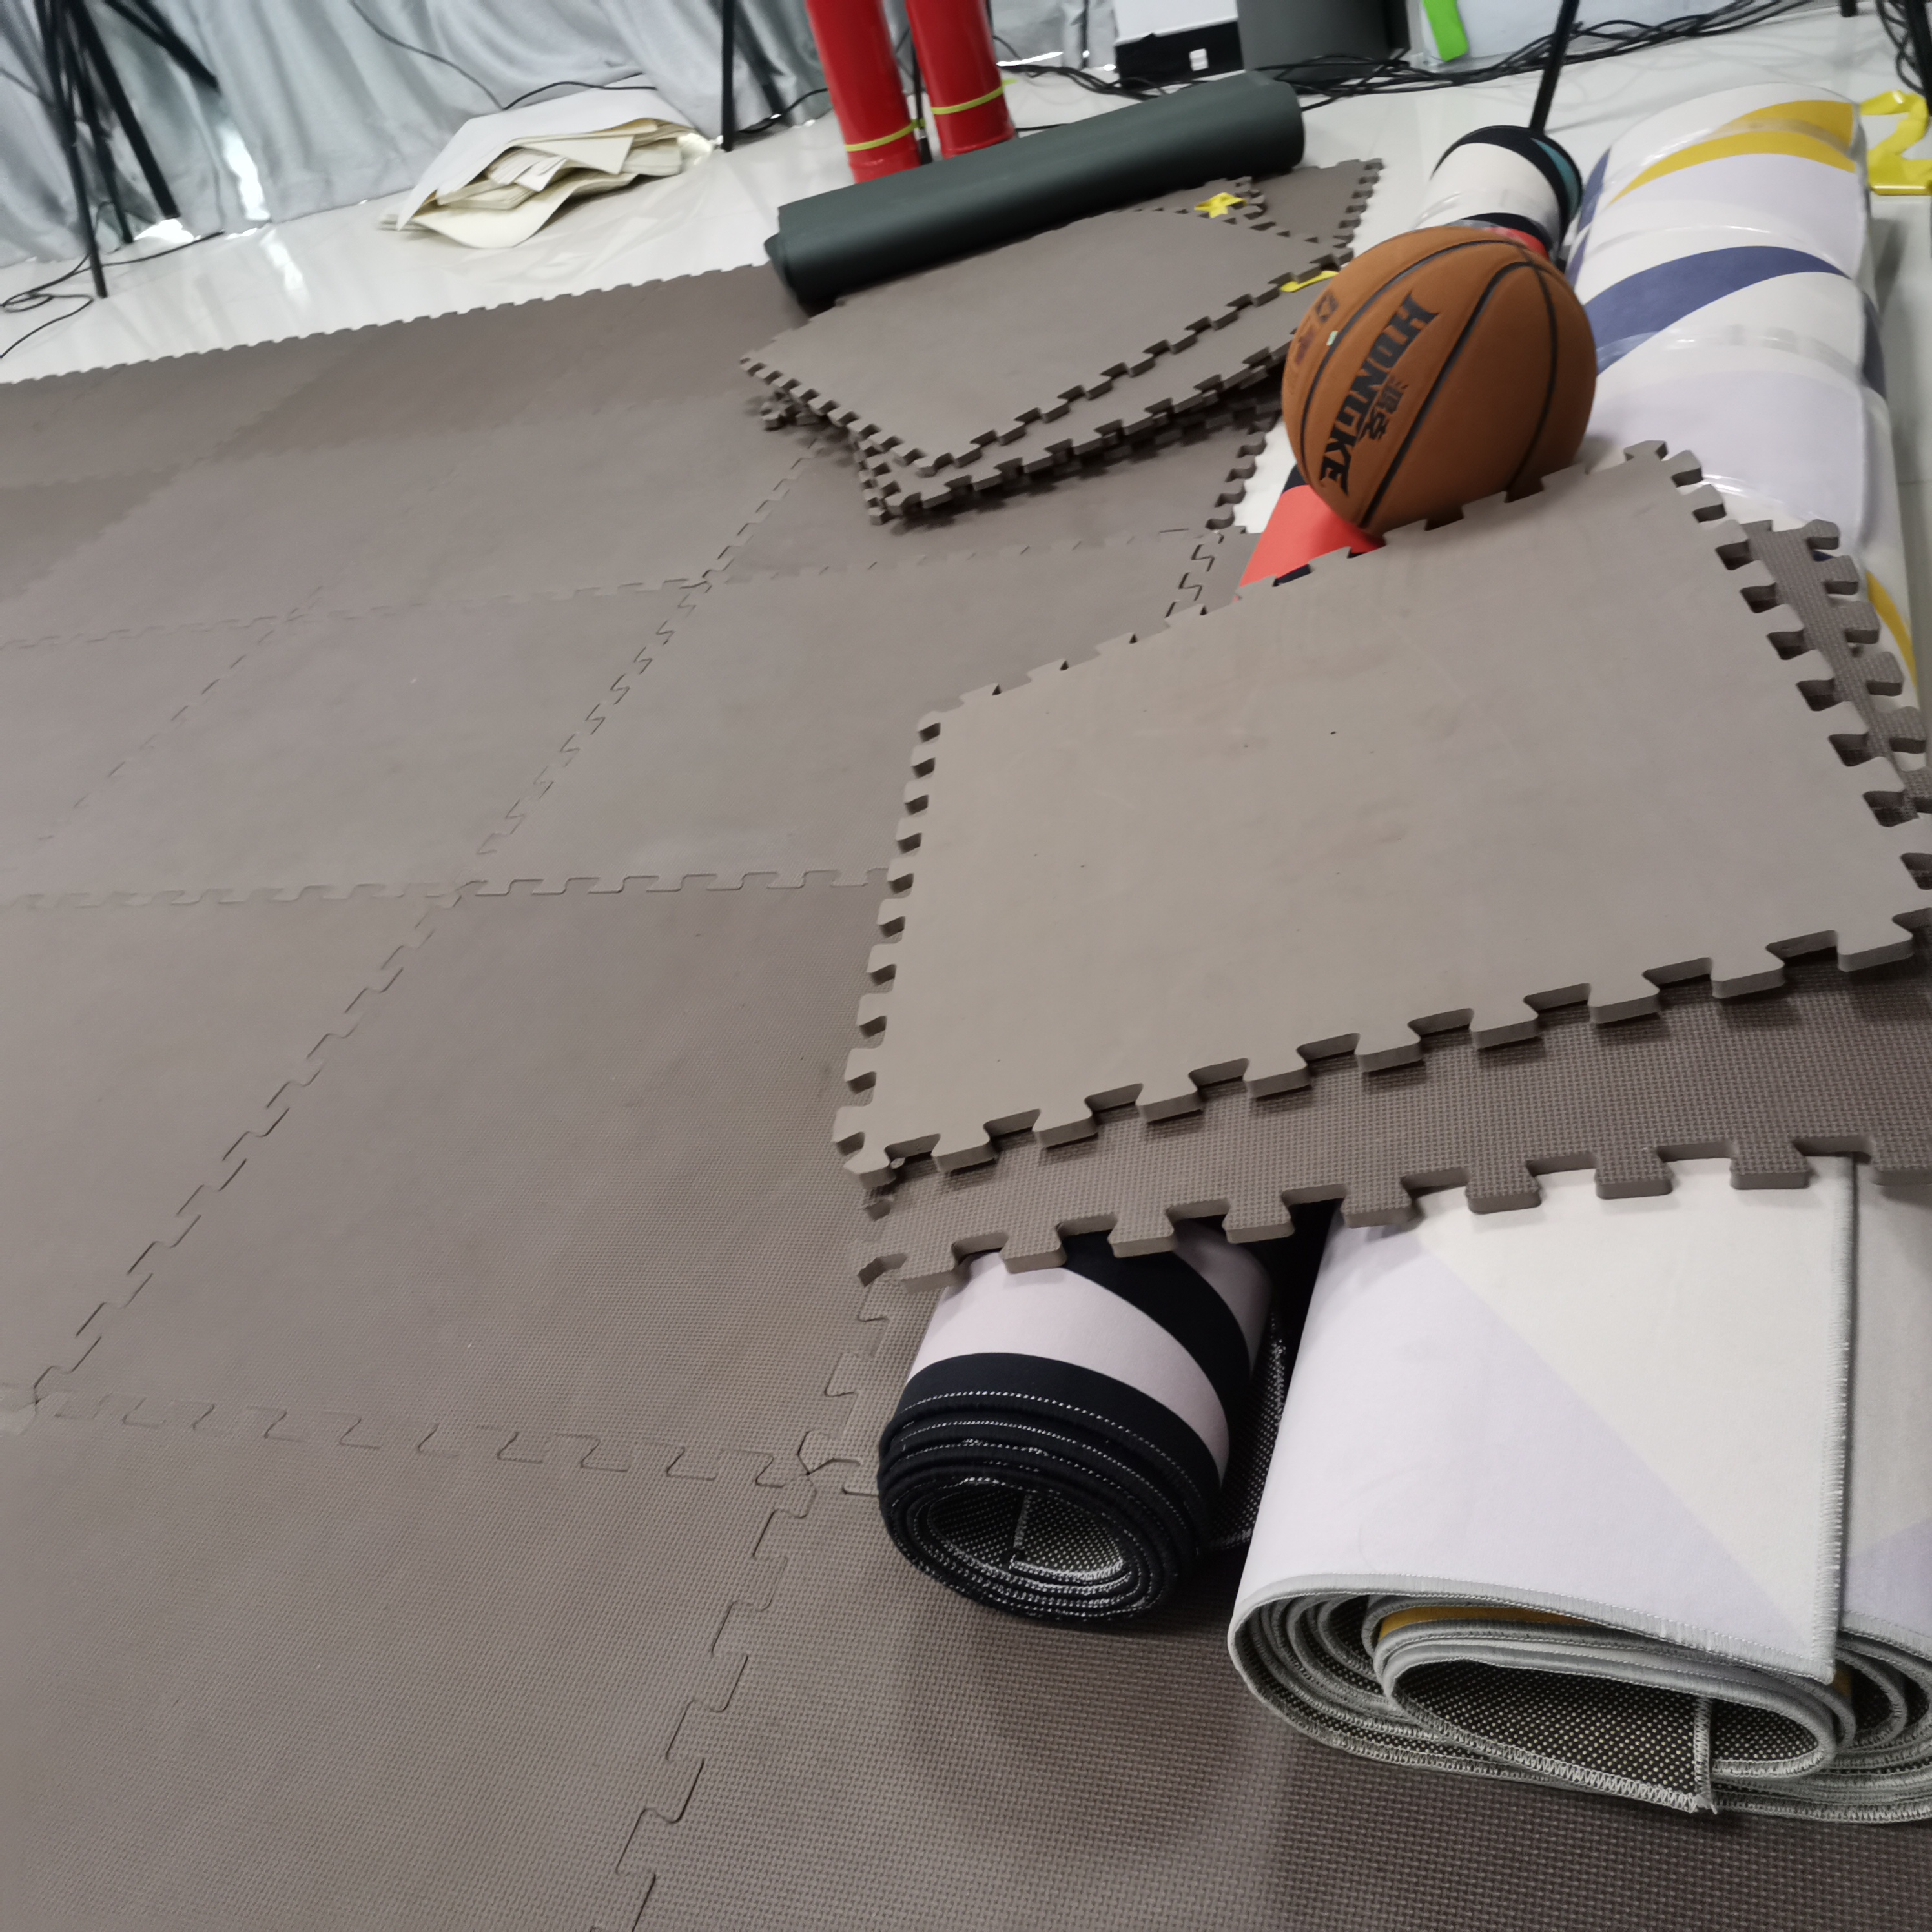basketball: (1281, 228, 1598, 533)
